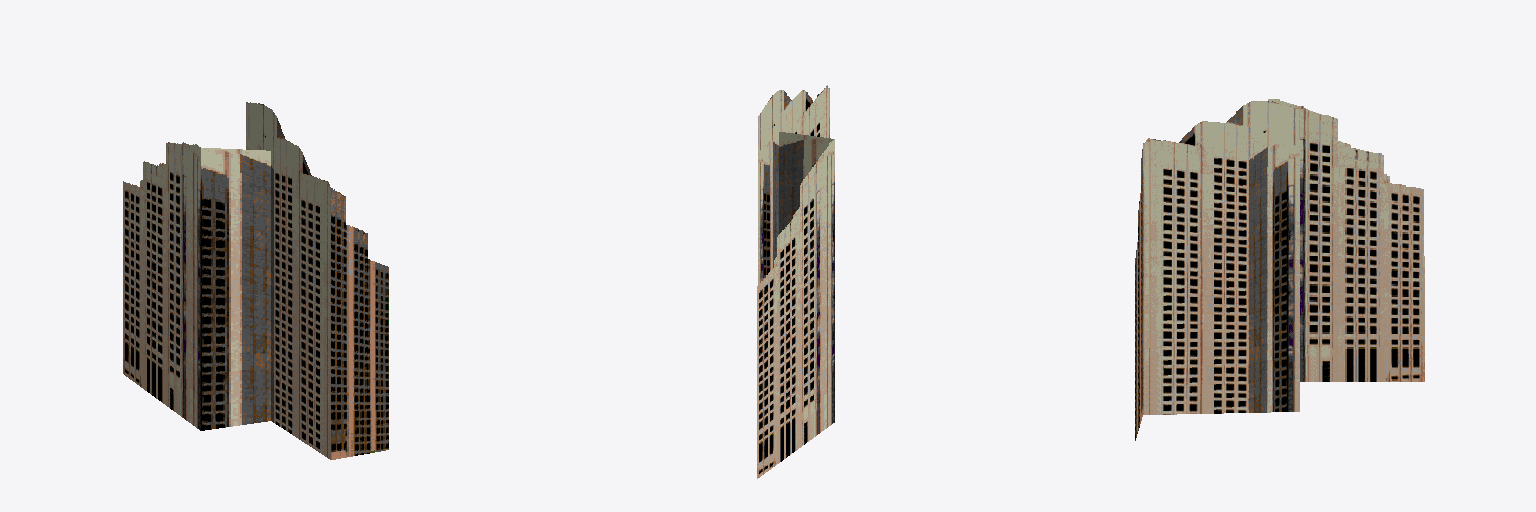
3 renders of one model, left to right at view 1: azimuth 30°, elevation 25°; view 2: azimuth 150°, elevation 25°; view 3: azimuth 270°, elevation 25°, orthographic.
Size of the model in its own units: 288 by 704 by 592.
1 materials, 1 textured.